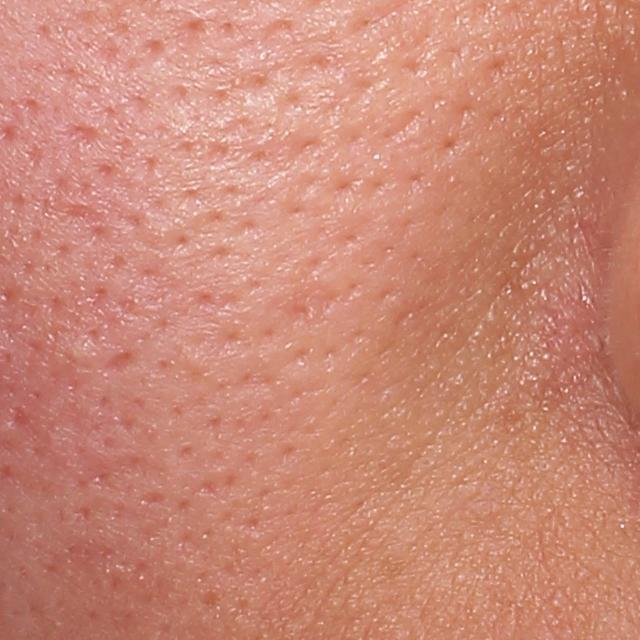atrophic_scar: (95, 346, 139, 376), (65, 121, 102, 146), (7, 406, 35, 433)
